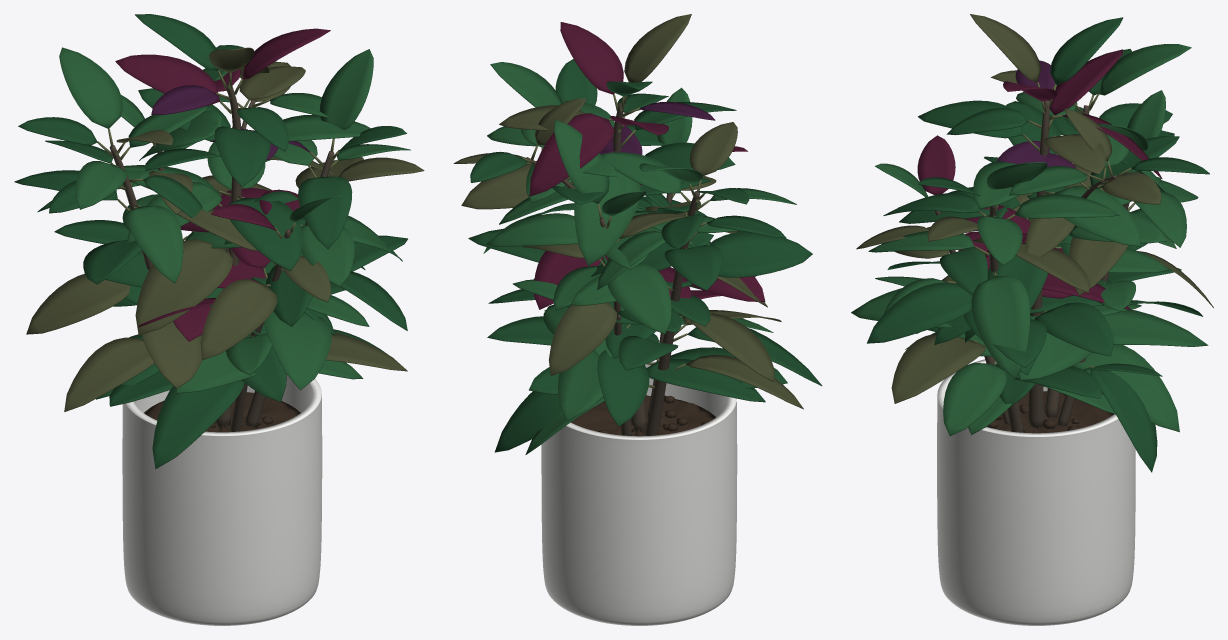
The model's file is plant_medium.glb.
The picture shows the model from 3 angles, left to right: view 1: azimuth 30°, elevation 25°; view 2: azimuth 150°, elevation 25°; view 3: azimuth 270°, elevation 25°; orthographic projection. The views are drawn at different scales.
Visible parts, largest first — view 1: pot, leaf_009, leaf_087, leaf_095, leaf_027, leaf_052, leaf_032, leaf_047, leaf_038, trunk, leaf_069, leaf_012 (+50 smaller); view 2: pot, leaf_035, leaf_078, leaf_016, leaf_081, trunk, leaf_021, leaf_073, leaf_023, leaf_032, leaf_071, soil (+47 smaller); view 3: pot, leaf_058, leaf_055, leaf_088, leaf_050, trunk, leaf_026, leaf_070, leaf_005, leaf_003, leaf_013, leaf_024 (+49 smaller).
Boxes of the visible parts, x1,y1,x2,y2 form: pot: (122, 374, 322, 625); leaf_009: (135, 239, 232, 335); leaf_087: (152, 380, 244, 469); leaf_095: (200, 279, 277, 360); leaf_027: (64, 337, 154, 411); leaf_052: (264, 311, 331, 390); leaf_032: (26, 273, 130, 334); leaf_047: (59, 47, 122, 128); leaf_038: (126, 205, 183, 283); trunk: (109, 84, 334, 431); leaf_069: (319, 49, 373, 129); leaf_012: (228, 197, 302, 271); pot: (541, 360, 737, 625); leaf_035: (709, 231, 812, 277); leaf_078: (548, 302, 616, 376); leaf_016: (574, 170, 640, 265); leaf_081: (607, 263, 671, 334); trunk: (526, 102, 699, 435); leaf_021: (529, 113, 614, 196); leaf_073: (597, 350, 649, 426); leaf_023: (560, 22, 623, 94); leaf_032: (689, 313, 774, 382); leaf_071: (646, 359, 765, 402); soil: (571, 395, 715, 436); pot: (937, 359, 1135, 625); leaf_058: (971, 275, 1030, 379); leaf_055: (867, 282, 972, 343); leaf_088: (891, 333, 985, 403); leaf_050: (943, 362, 1006, 436); trunk: (935, 100, 1129, 432); leaf_026: (1071, 345, 1179, 432); leaf_070: (1090, 370, 1157, 472); leaf_005: (1035, 302, 1113, 356); leaf_003: (1104, 309, 1208, 346); leaf_013: (1054, 185, 1140, 246); leaf_024: (1050, 17, 1123, 84).
Size of the model in its own units: 1.11 by 1.74 by 1.01.
